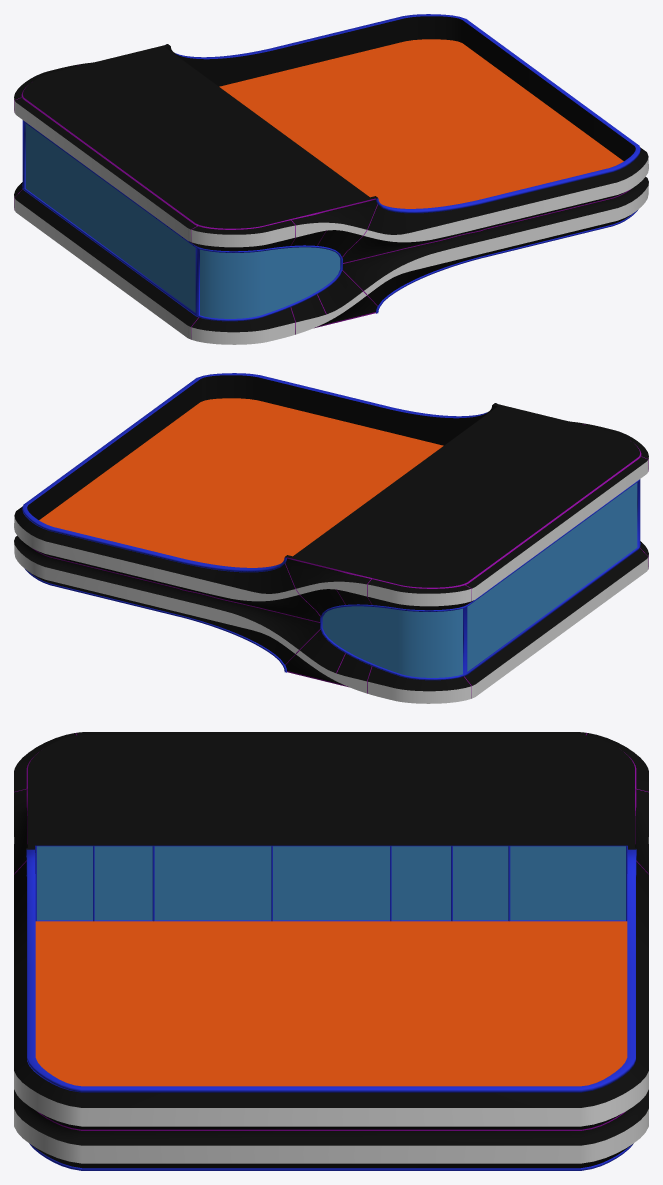
Rendered from SM_Building_MK3_Middle_03.fbx.
The picture shows the model from 3 angles, top to bottom: view 1: azimuth 30°, elevation 25°; view 2: azimuth 150°, elevation 25°; view 3: azimuth 270°, elevation 25°; orthographic projection. The views are drawn at different scales.
Parts seen in each view (by area): view 1: Middle_03; view 2: Middle_03; view 3: Middle_03.
Boxes of the visible parts, box(x1,y1,x2,y2) form: Middle_03: box(14, 14, 648, 344); Middle_03: box(14, 373, 648, 703); Middle_03: box(14, 732, 648, 1170).
Size of the model in its own units: 2092 by 500 by 1731.
